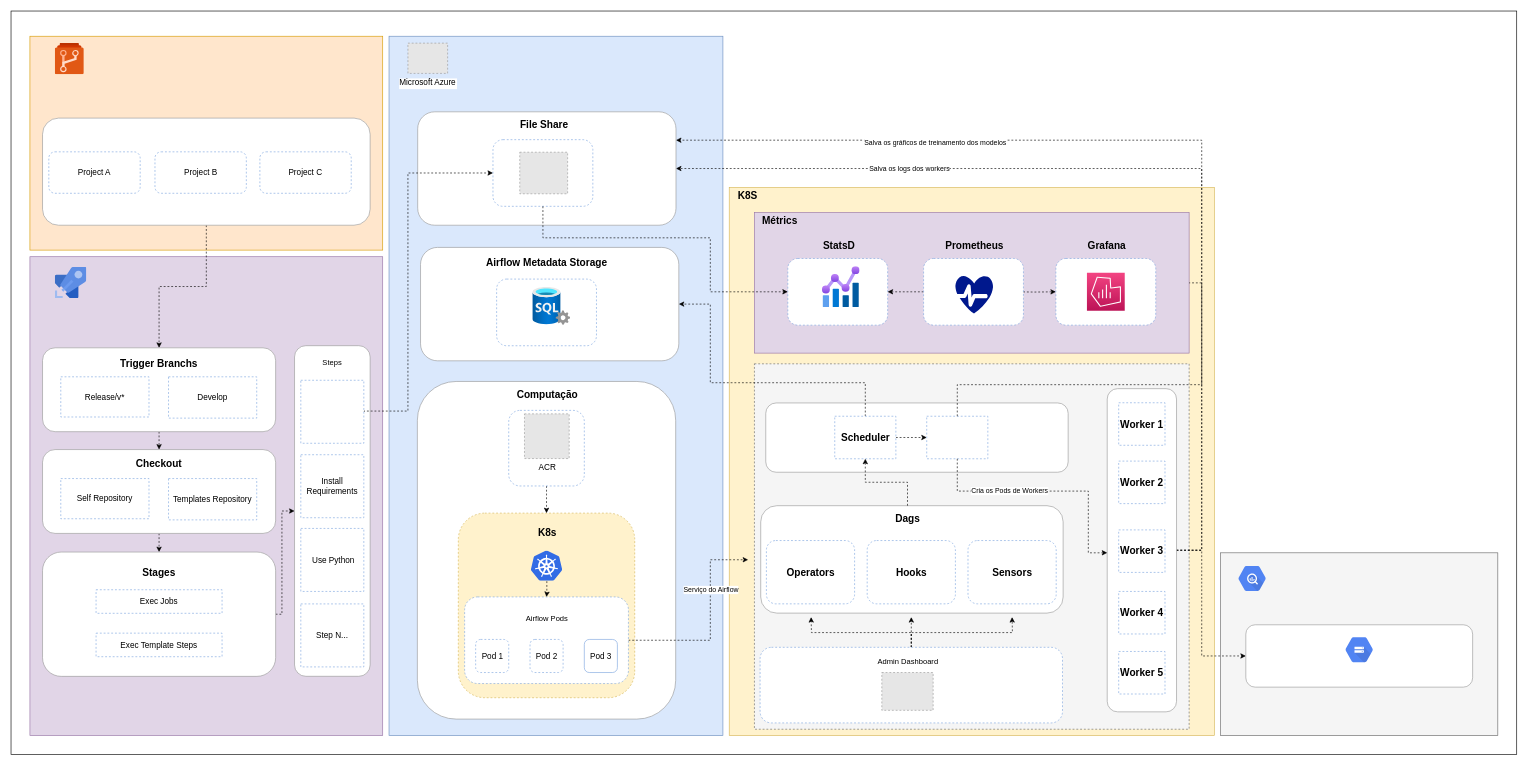
Some shapes in this 1528 by 765 pixel diagram are drawn without their labels. Grey dashed boxes stand in for pictures. Here are the shapes that lost their labels. From the top down, the centre of each, then its label:
At point 69,58: "Azure Repos".
At point 70,282: "Azure Pipelines".
At point 551,306: "SQL Server".
At point 332,411: "Sync Dags".
At point 957,437: "Executor".
At point 1252,578: "BigQuery".
At point 1359,649: "Cloud Storage".
